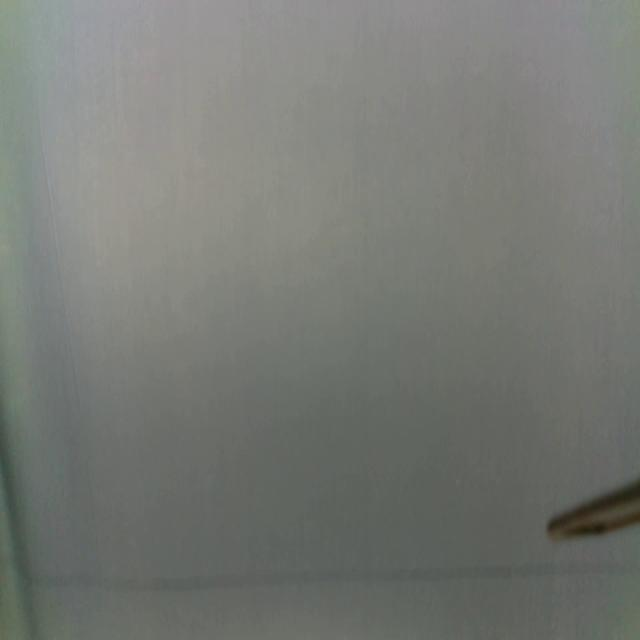color bleeding: (32, 555, 640, 597)
crease: (36, 94, 83, 415)
